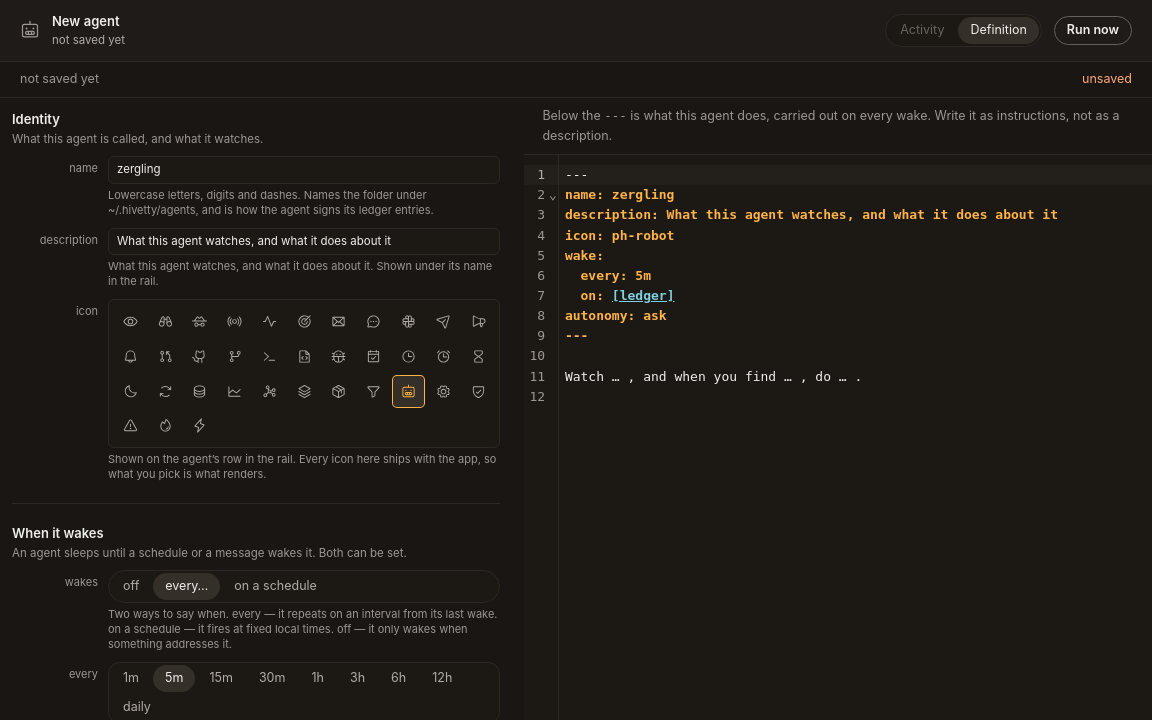
AgentPage — Run now › Run now on a never-saved agent refuses
Expected: the field named "name" is shown, [108,156,500,184]
Click the button "Run now" at x=1093, y=30, box [1054,16,1132,45]
(page scrolled)
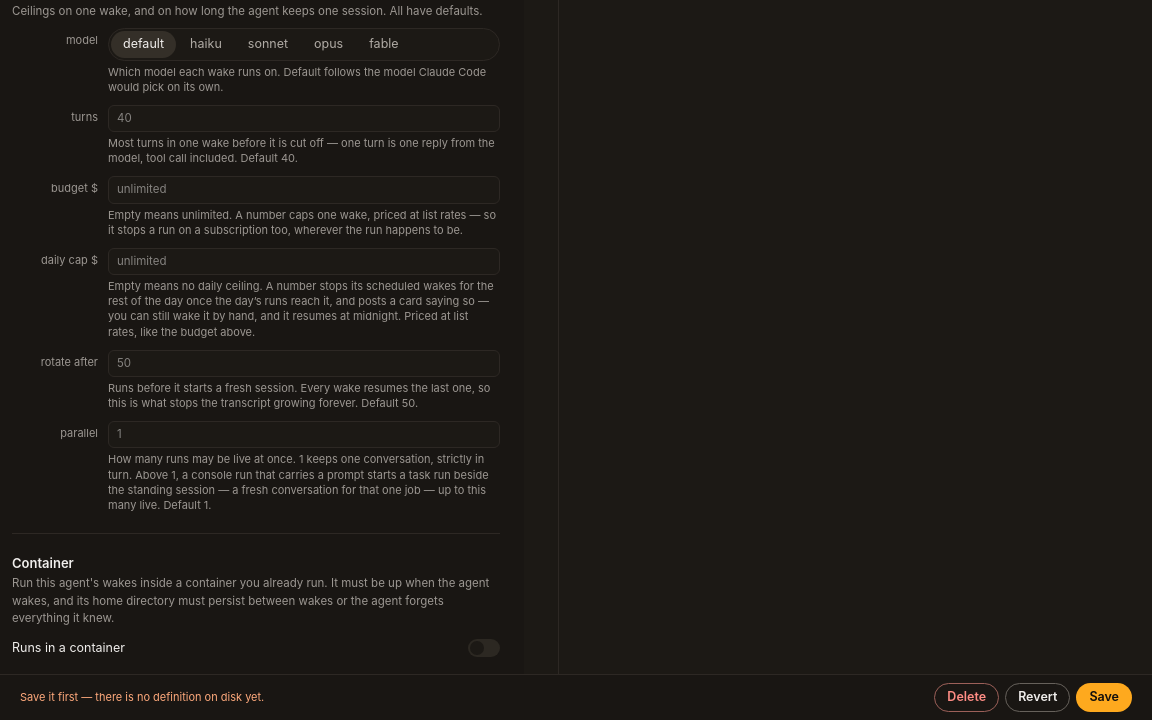
Expected: the message reads "Save it first — there is no definition on disk yet.", [20,690,264,704]
